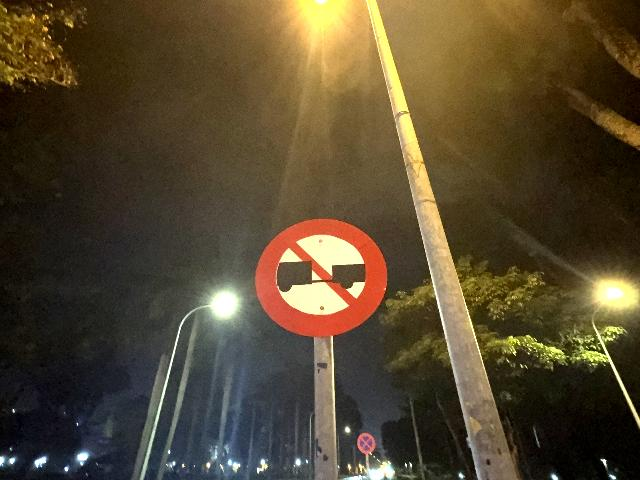cam-xe-somi-romooc: (254, 218, 389, 337)
